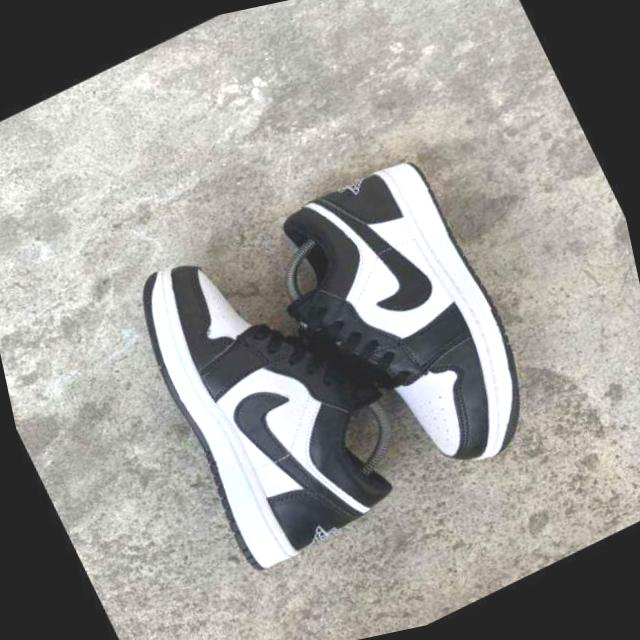nike_fake_jordan: (104, 190, 442, 594), (238, 132, 569, 533)
